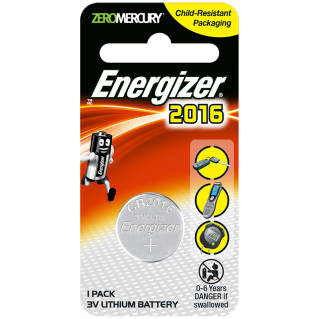Battery: (113, 188, 189, 265)
